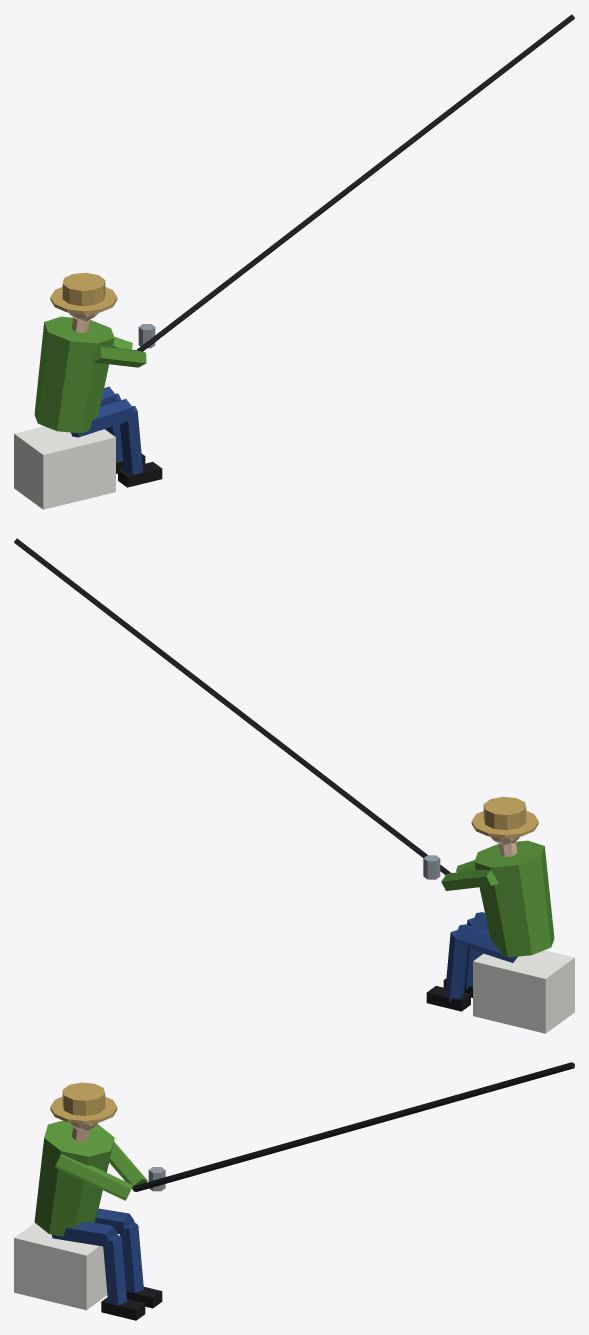
The model's file is fiskare.glb.
The picture shows the model from 3 angles, top to bottom: view 1: azimuth 30°, elevation 25°; view 2: azimuth 150°, elevation 25°; view 3: azimuth 330°, elevation 25°; orthographic projection.
Visible parts, largest first — view 1: Kropp, Spo; view 2: Kropp, Spo; view 3: Kropp, Spo.
Boxes of the visible parts, bbox=[...] form: Kropp: bbox=[14, 272, 162, 509]; Spo: bbox=[137, 14, 574, 351]; Kropp: bbox=[426, 796, 574, 1033]; Spo: bbox=[14, 538, 450, 879]; Kropp: bbox=[14, 1082, 162, 1320]; Spo: bbox=[133, 1062, 574, 1191].
Bounding box in the file's own units: 3.76 × 2.32 × 0.5367.
